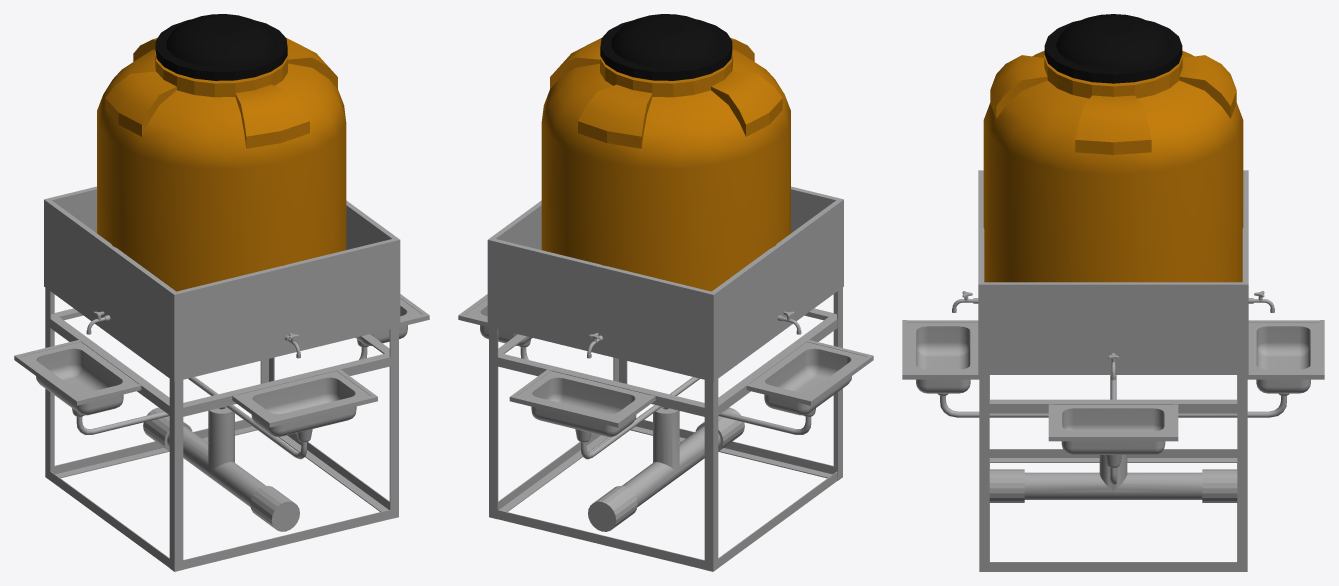
File: westfel.fbx
3 renders of one model, left to right at view 1: azimuth 30°, elevation 25°; view 2: azimuth 150°, elevation 25°; view 3: azimuth 270°, elevation 25°, orthographic. The views are drawn at different scales.
Parts seen in each view (by area): view 1: pCylinder12, polySurface13, polySurface28, polySurface29, pCylinder11, polySurface27; view 2: pCylinder12, polySurface13, polySurface30, polySurface29, pCylinder11, polySurface27; view 3: pCylinder12, polySurface13, pCylinder11, polySurface27, polySurface28, polySurface30.
Part boxes in pixels (x1,y1,x2,y2): pCylinder12: (97, 14, 346, 291); polySurface13: (44, 186, 400, 571); polySurface28: (219, 333, 377, 459); polySurface29: (14, 311, 223, 434); pCylinder11: (143, 407, 299, 531); polySurface27: (224, 294, 429, 408); pCylinder12: (541, 14, 790, 291); polySurface13: (487, 186, 843, 571); polySurface30: (509, 333, 668, 459); polySurface29: (664, 311, 873, 434); pCylinder11: (588, 407, 744, 531); polySurface27: (458, 294, 663, 408); pCylinder12: (983, 14, 1243, 282); polySurface13: (978, 170, 1248, 571); pCylinder11: (989, 455, 1237, 502); polySurface27: (1048, 353, 1178, 485); polySurface28: (902, 291, 1048, 417); polySurface30: (1178, 291, 1324, 417).
Bounding box in the file's own units: 8.72 × 11.13 × 8.72.
